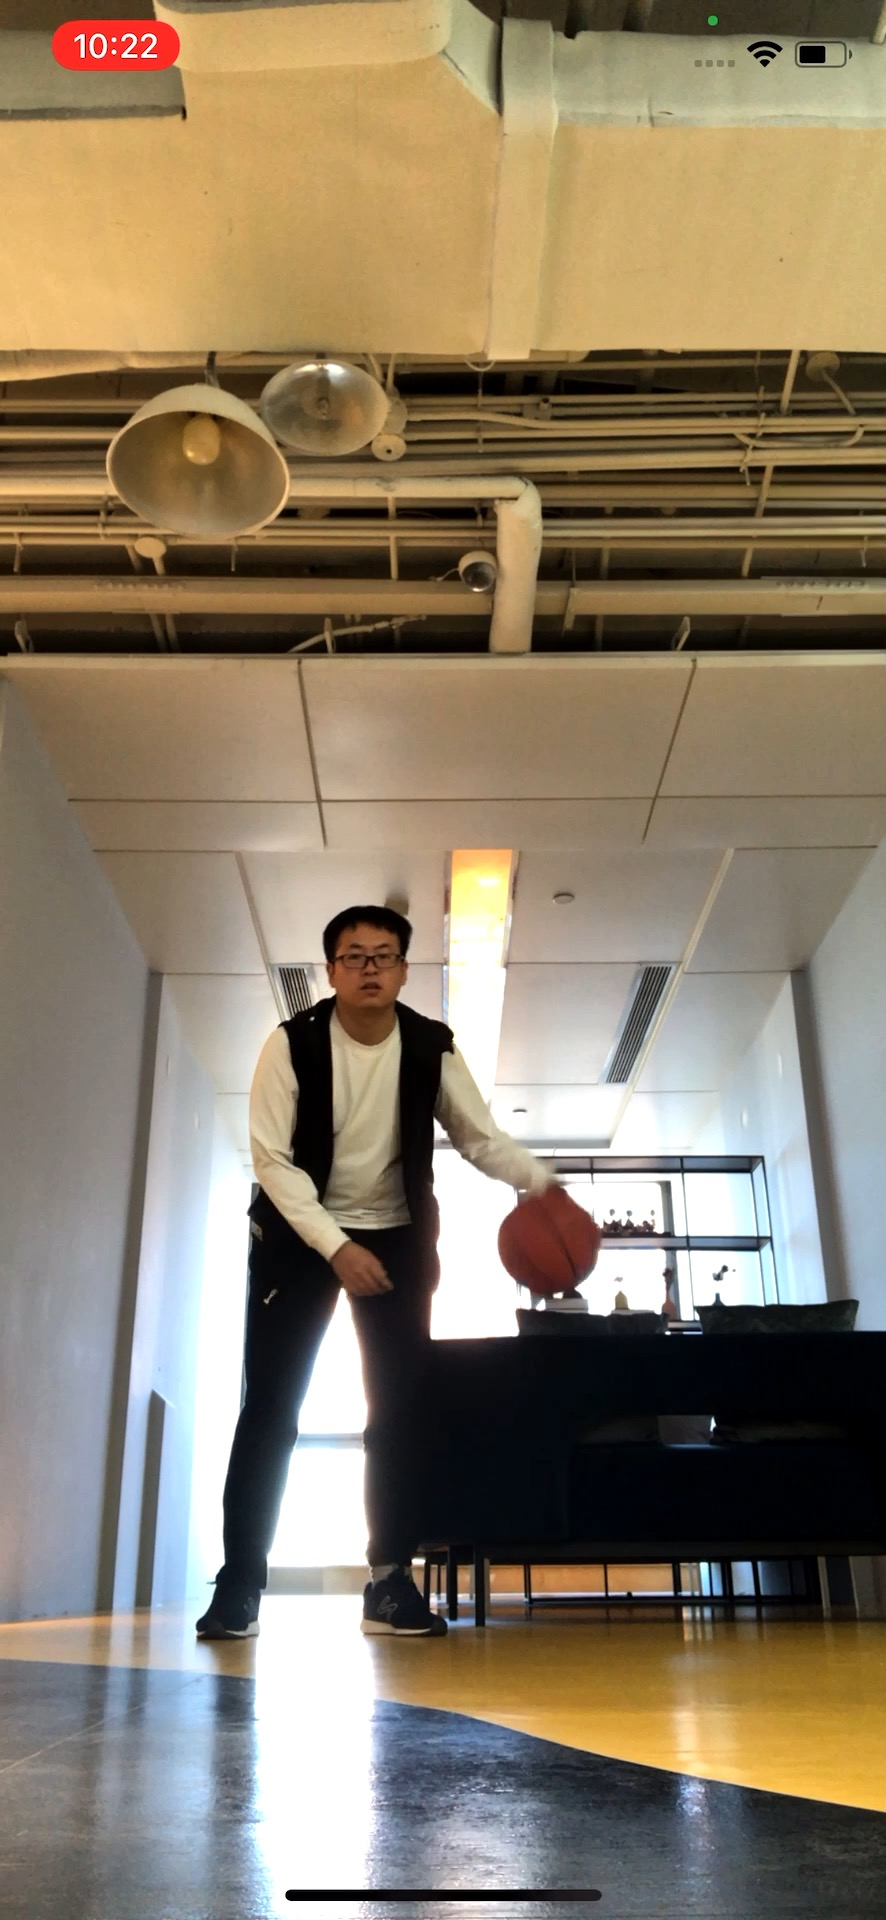ball: (496, 1194, 602, 1294)
